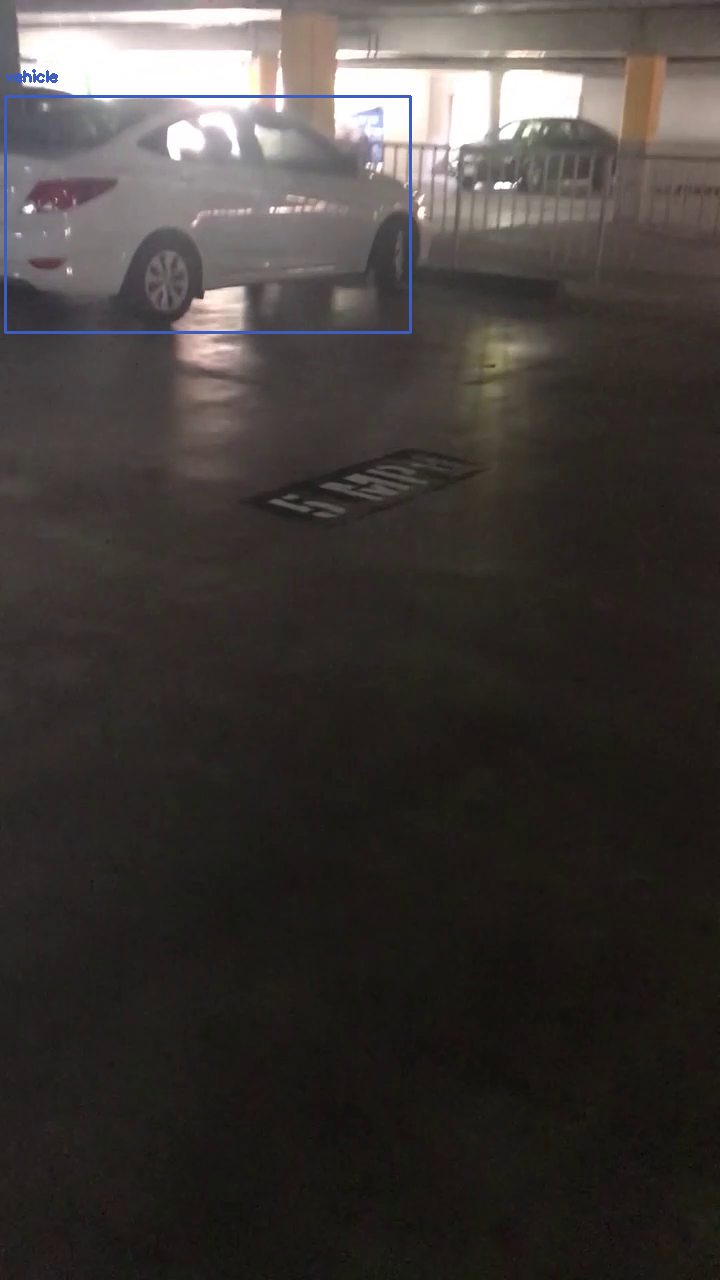vehicle: (5, 96, 410, 332)
